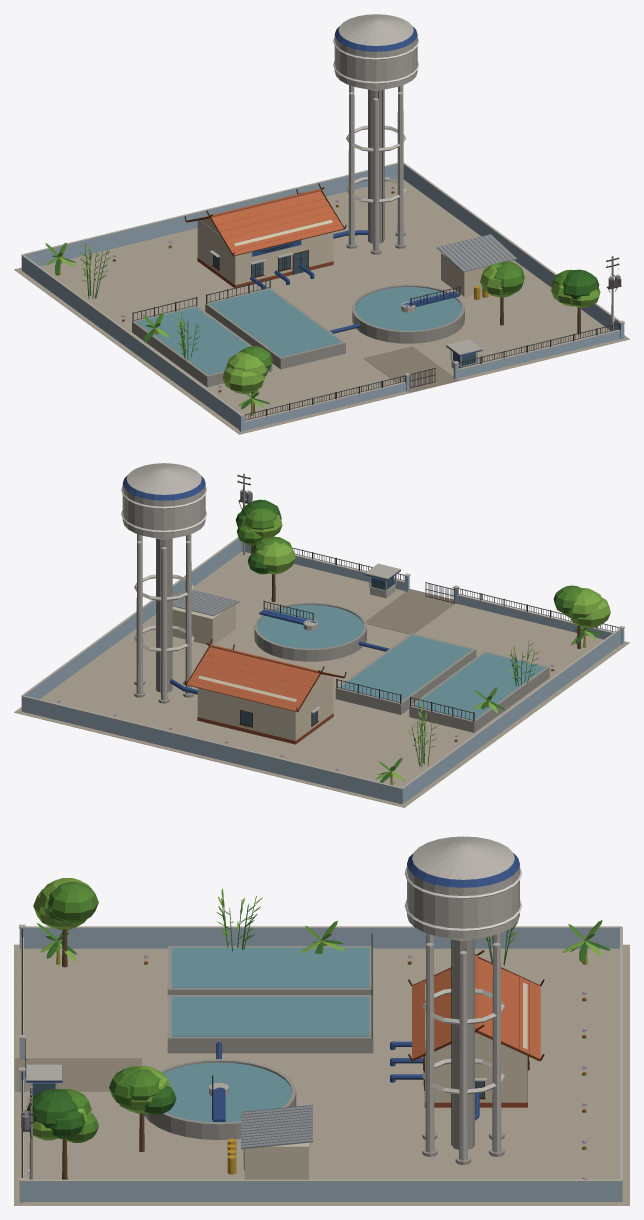
Rendered from water_works.glb.
3 views of the same model, one above another, from view 1: azimuth 30°, elevation 25°; view 2: azimuth 150°, elevation 25°; view 3: azimuth 270°, elevation 25° (orthographic). The views are drawn at different scales.
Parts seen in each view (by area): view 1: body, windows; view 2: body; view 3: body.
Boxes of the visible parts, left/top/right/bottom form: body: left=14, top=14, right=629, bottom=434; windows: left=213, top=251, right=475, bottom=365; body: left=14, top=463, right=629, bottom=807; body: left=14, top=836, right=629, bottom=1205.
Size of the model in its own units: 47.9 by 26.03 by 47.9.
